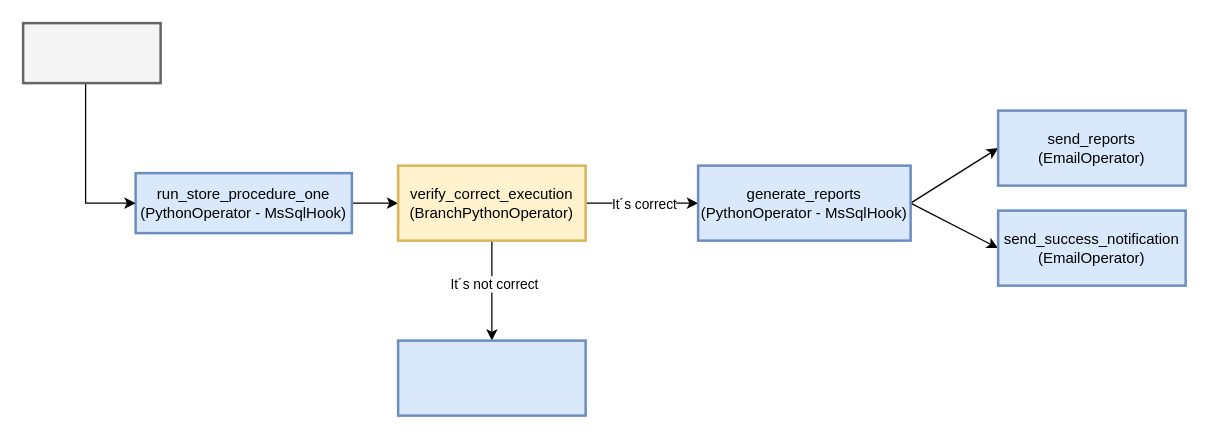
Some shapes in this 1208 by 438 pixel diagram are drawn without their labels. Each missing label, with the centre of its shape:
"send_error_notification (EmailOperator)" goes at point (491, 377).
"unknown_trigger (sensor)" goes at point (91, 52).
